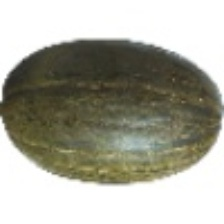honeydew: (7, 56, 183, 204)
